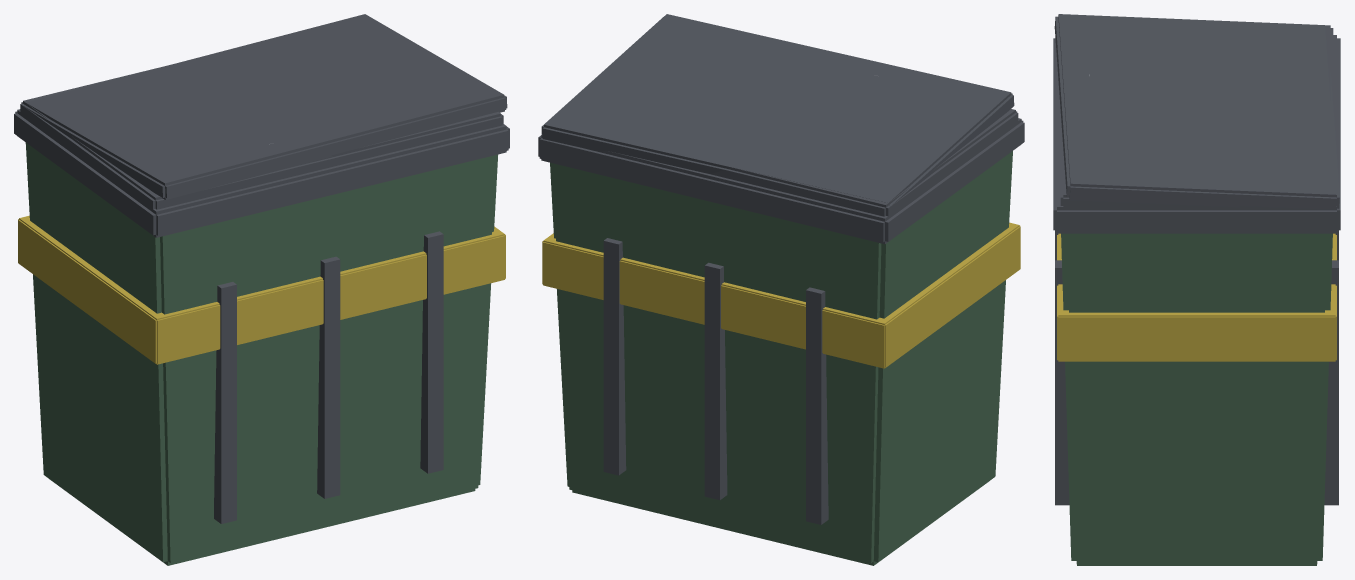
The model's file is bin_step_m.glb.
3 renders of one model, left to right at view 1: azimuth 30°, elevation 25°; view 2: azimuth 150°, elevation 25°; view 3: azimuth 270°, elevation 25°, orthographic. The views are drawn at different scales.
Parts seen in each view (by area): view 1: body.001, lid_plate.001, yellow_stripe.001, rim.001, lid_plate.002, rib.001, rib.002, rib; view 2: body.001, lid_plate.001, yellow_stripe.001, rim.001, rib.001, rib.002, rib, lid_plate.002; view 3: body.001, lid_plate.001, yellow_stripe.001, rim.001, rib.002, lid_plate.002.
Boxes of the visible parts, x1,y1,x2,y2 form: body.001: [25, 142, 497, 565]; lid_plate.001: [23, 14, 507, 199]; yellow_stripe.001: [18, 215, 505, 364]; rim.001: [14, 109, 509, 237]; lid_plate.002: [20, 66, 503, 209]; rib.001: [317, 256, 340, 498]; rib.002: [420, 231, 443, 473]; rib: [214, 282, 236, 523]; body.001: [550, 151, 1012, 565]; lid_plate.001: [541, 14, 1014, 205]; yellow_stripe.001: [542, 222, 1020, 368]; rim.001: [538, 118, 1024, 244]; rib.001: [704, 262, 727, 500]; rib.002: [603, 238, 626, 475]; rib: [806, 287, 828, 524]; lid_plate.002: [711, 109, 1018, 217]; body.001: [1061, 233, 1332, 565]; lid_plate.001: [1054, 14, 1339, 209]; yellow_stripe.001: [1057, 233, 1336, 361]; rim.001: [1053, 35, 1340, 233]; rib.002: [1055, 260, 1338, 505]; lid_plate.002: [1060, 25, 1333, 209].
Size of what is drawn, in the model's own units: 1.15 by 1.2 by 0.79.
